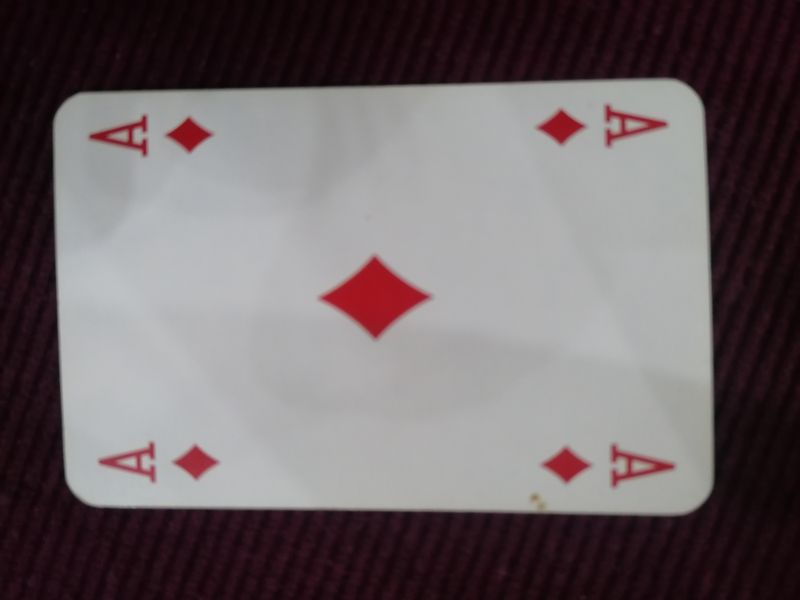Ad: (537, 440, 680, 492), (532, 98, 672, 151), (83, 109, 224, 160), (95, 439, 225, 487)
